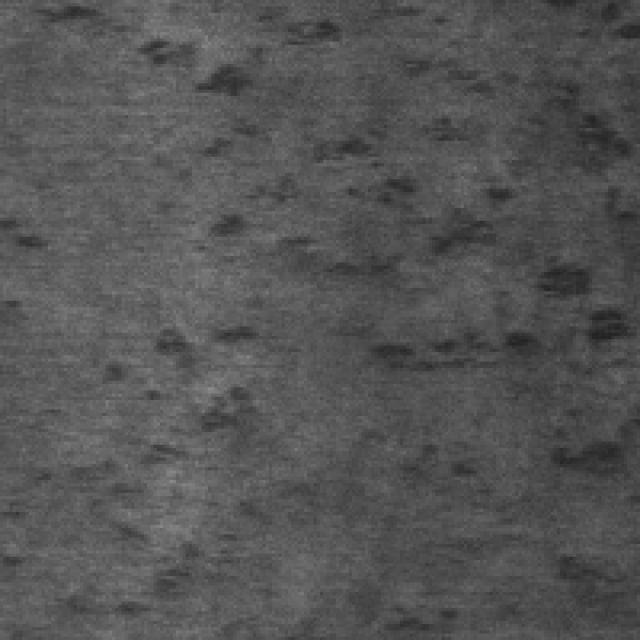rolled-in_scale: (285, 93, 640, 384), (45, 0, 349, 243), (67, 301, 275, 627)
